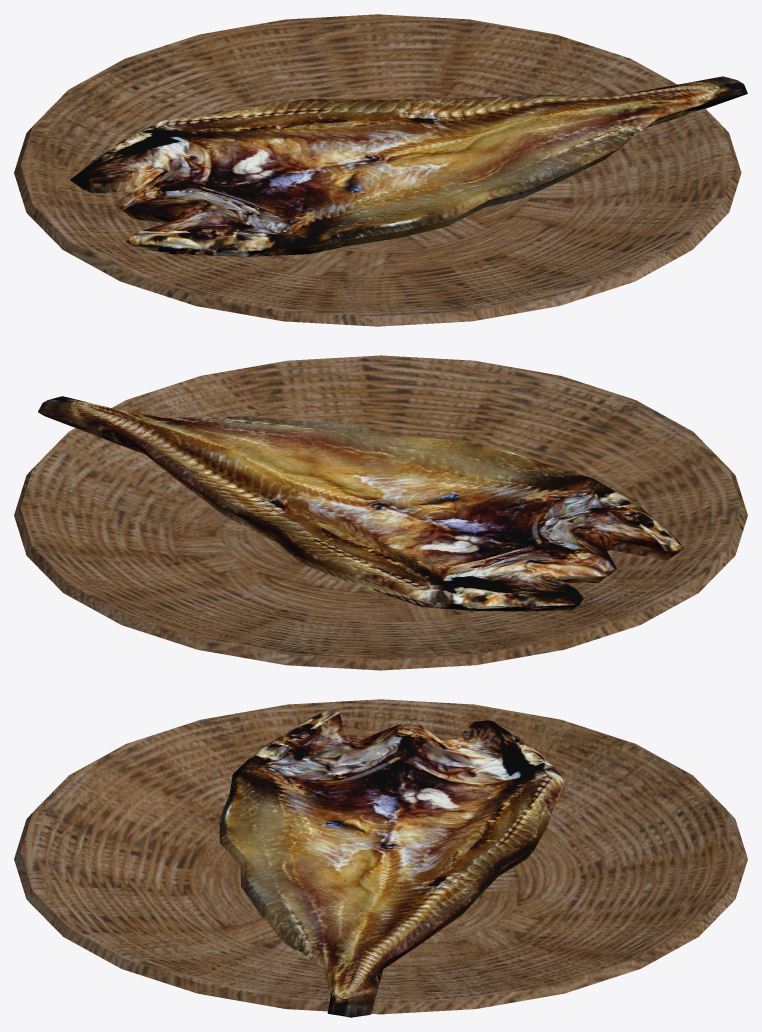
File: Sto. Tomas Dried Fish Products.glb
3 renders of one model, top to bottom at view 1: azimuth 30°, elevation 25°; view 2: azimuth 150°, elevation 25°; view 3: azimuth 270°, elevation 25°, orthographic.
Visible parts, largest first — view 1: SM_Straw_Jar02a, SM_Fish_Jerky; view 2: SM_Straw_Jar02a, SM_Fish_Jerky; view 3: SM_Straw_Jar02a, SM_Fish_Jerky.
Boxes of the visible parts, bbox=[...] form: SM_Straw_Jar02a: bbox=[14, 14, 741, 326]; SM_Fish_Jerky: bbox=[70, 76, 747, 256]; SM_Straw_Jar02a: bbox=[14, 355, 747, 670]; SM_Fish_Jerky: bbox=[38, 396, 684, 611]; SM_Straw_Jar02a: bbox=[14, 699, 747, 1014]; SM_Fish_Jerky: bbox=[219, 710, 565, 1017].
Size of the model in its own units: 0.3432 by 0.0282 by 0.3248.
2 materials, 2 textured.
